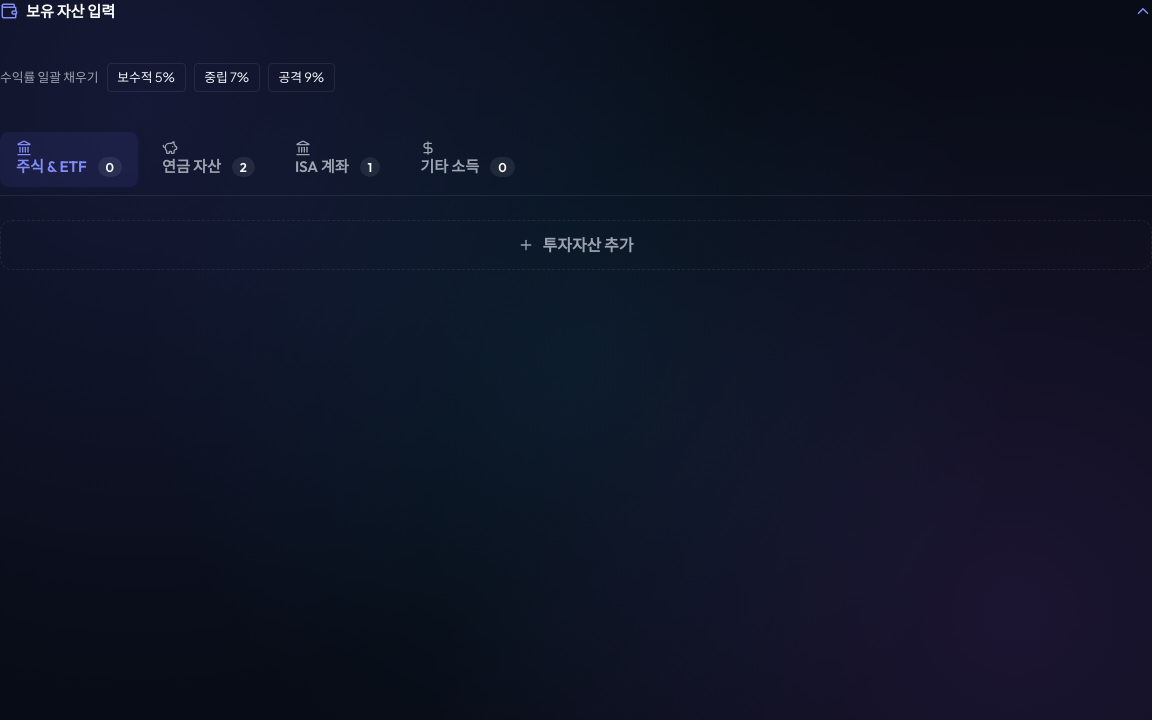
AssetFormSection - 수익률 입력은 전략에 잠기지 않는다 › 사적연금의 실시간 수익률 조회 버튼도 언제나 쓸 수 있다
What coordinates should you click on to do the following:
click the button "연금 자산 2"
I would click on:
 (208, 159)
Its box is [146,132,271,187].
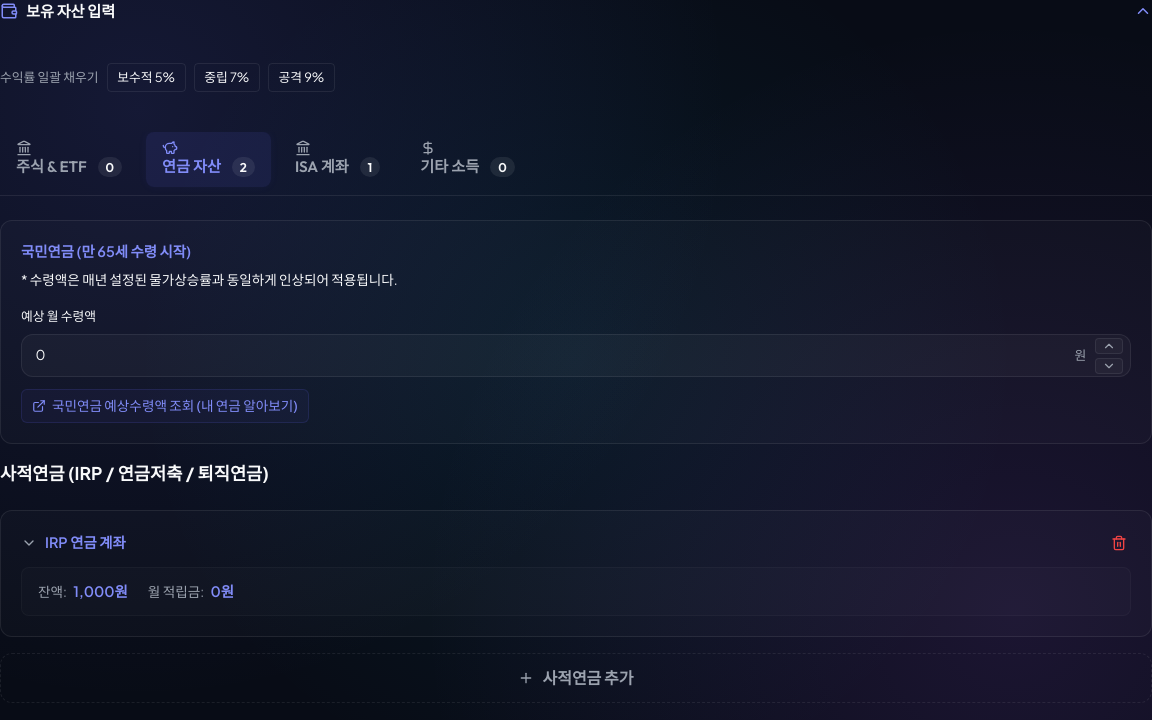
What coordinates should you click on to do the following:
click the text "IRP 연금 계좌"
I would click on:
 (85, 543)
Its box is [45,532,126,554].
(page scrolled)
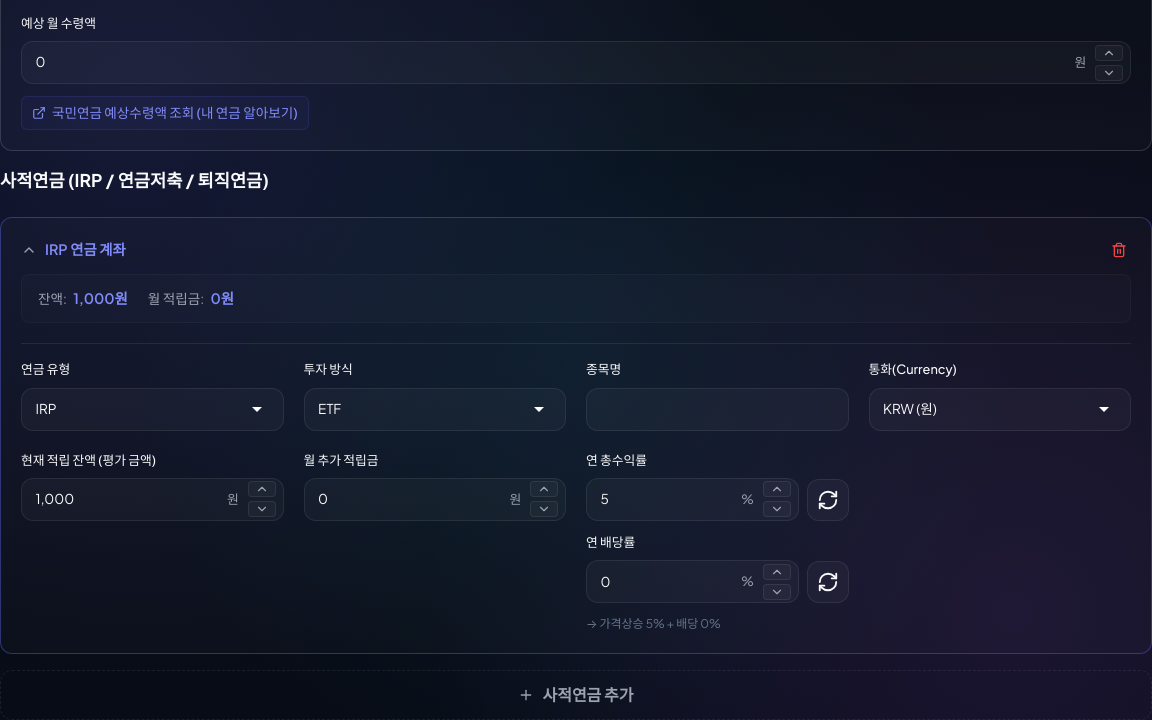
Check: the button titled "실시간 수익률" is enabled, box [806,479,848,521]
